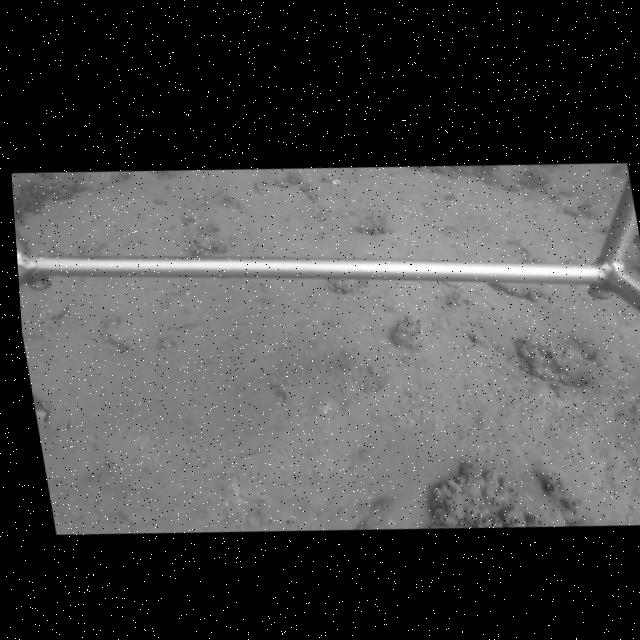Oyster-Open: (194, 238, 229, 253)
